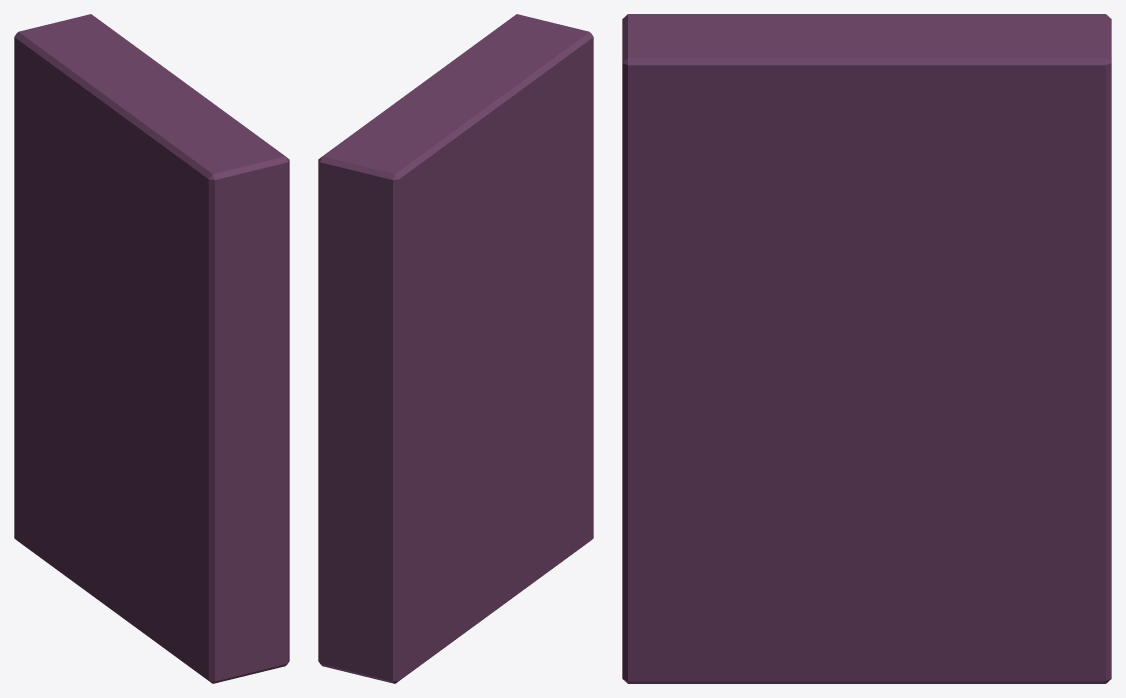
Rendered from Platform_Straight_Small.fbx.
The picture shows the model from 3 angles, left to right: view 1: azimuth 30°, elevation 25°; view 2: azimuth 150°, elevation 25°; view 3: azimuth 270°, elevation 25°; orthographic projection. The views are drawn at different scales.
Visible parts, largest first — view 1: Platform_Straight_Small; view 2: Platform_Straight_Small; view 3: Platform_Straight_Small.
Boxes of the visible parts, left/top/right/bottom form: Platform_Straight_Small: left=14, top=14, right=289, bottom=683; Platform_Straight_Small: left=318, top=14, right=593, bottom=683; Platform_Straight_Small: left=622, top=14, right=1111, bottom=683.
Bounding box in the file's own units: 0.4821 × 2.9 × 2.05.
